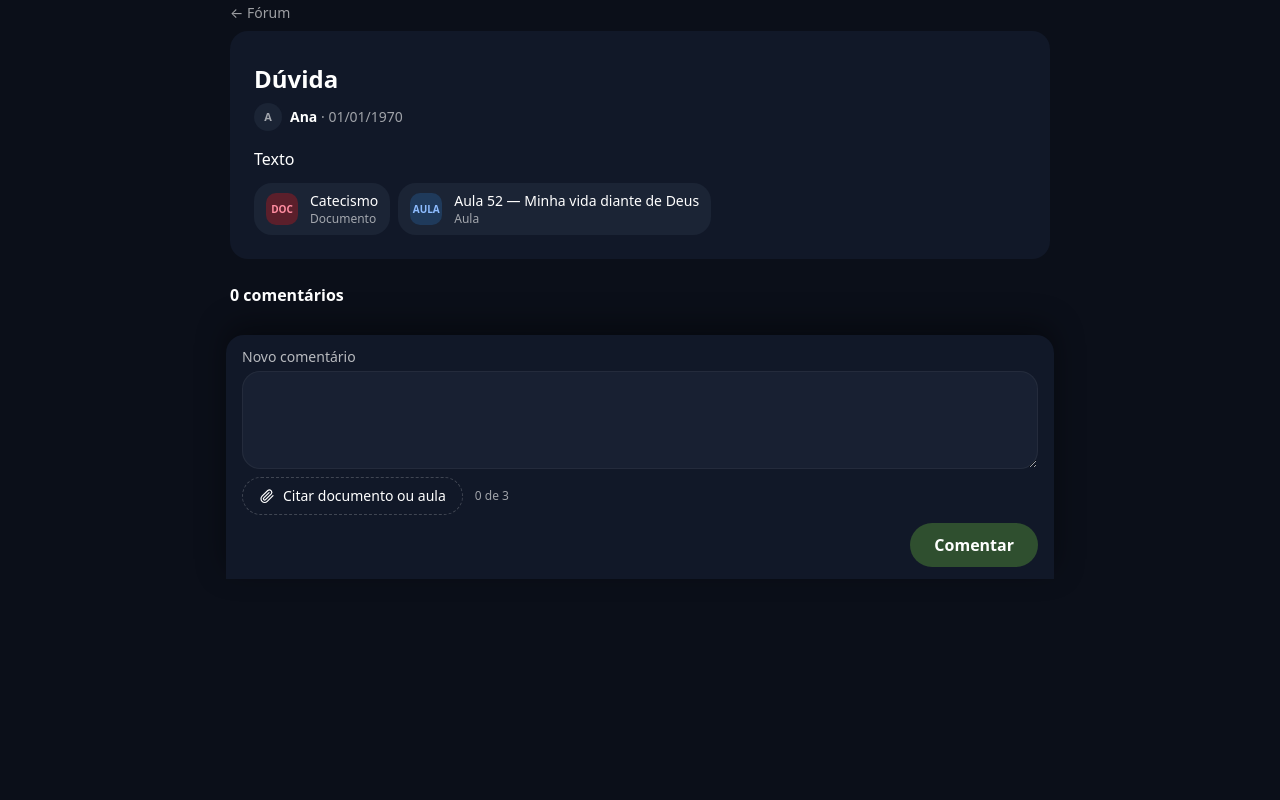
Test case: Fórum: citações abrem sobre o tópico › abrir mantém a rota de fundo, a URL ganha o parâmetro e a página continua atrás
The image size is (1280, 800).
What coordinates should you click on to do the following:
click the button "AULA Aula 52 — Minha vida diante de Deus Aula"
I would click on:
 (555, 209)
Its box is x1=398 y1=183 x2=711 y2=235.
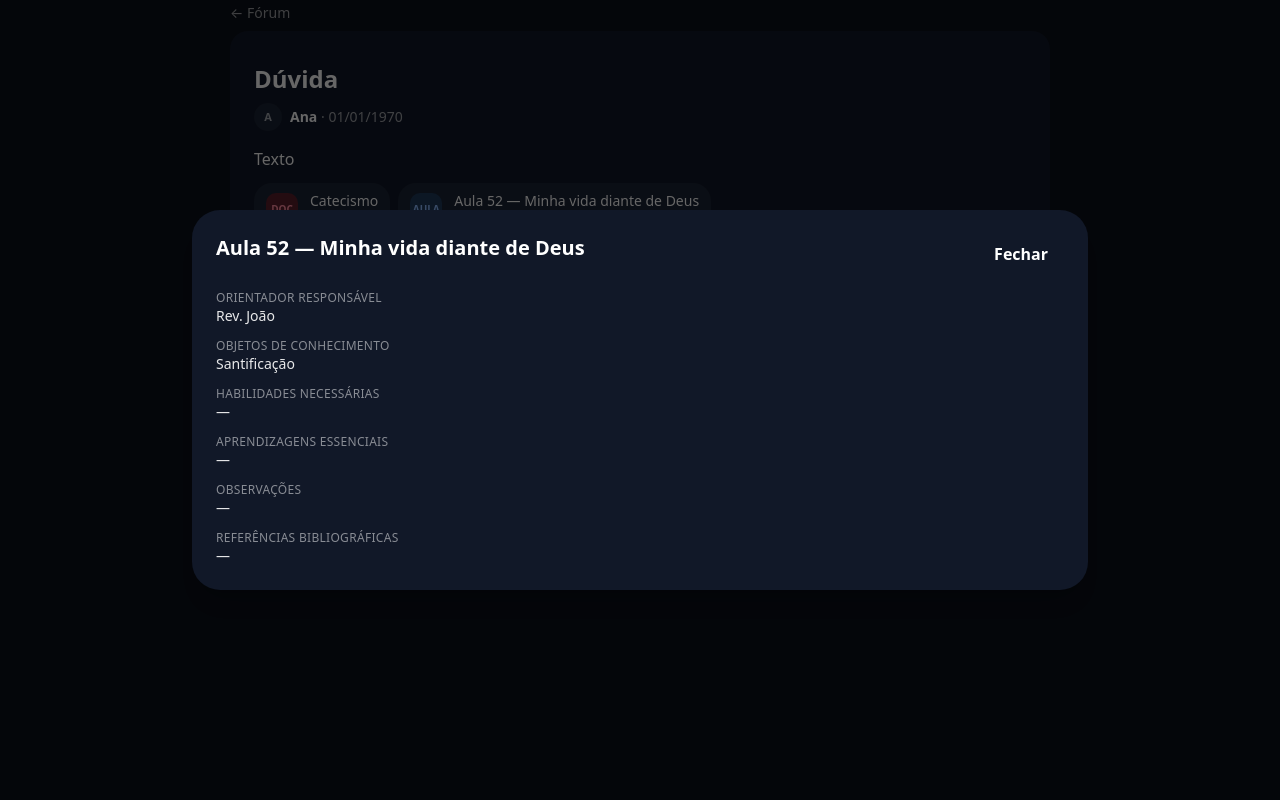
Expected: the heading "Dúvida" is shown, x1=254 y1=62 x2=338 y2=95
Expected: the dialog named "Aula do Plano pedagógico" is shown, x1=192 y1=210 x2=1088 y2=590
